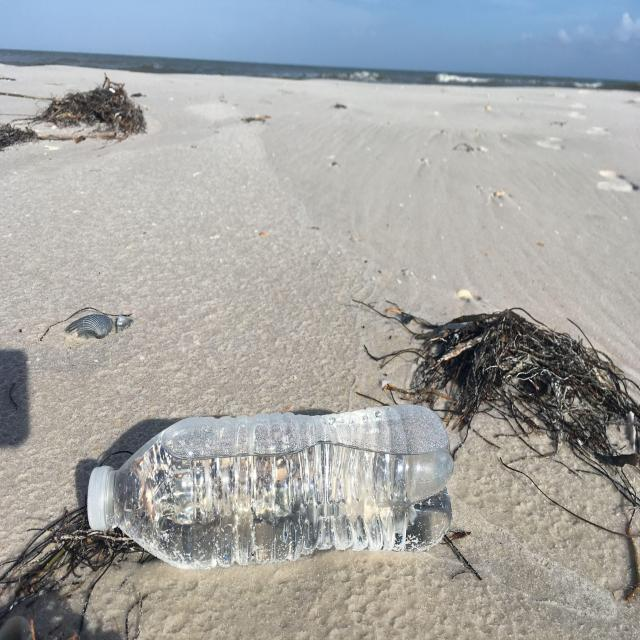litter: (83, 401, 453, 570)
